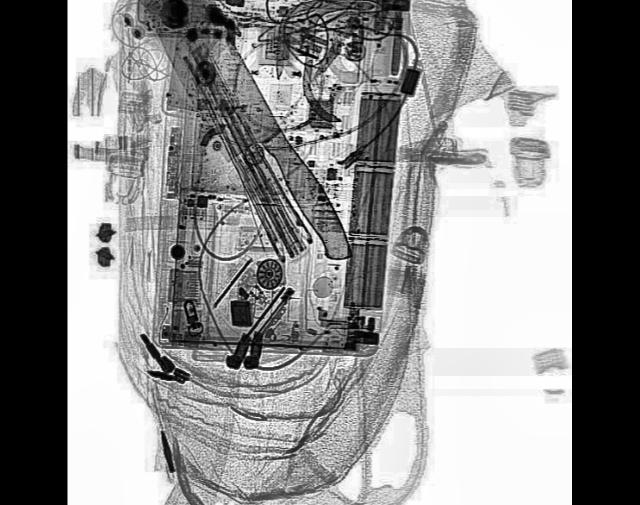Knife: (144, 0, 357, 308)
